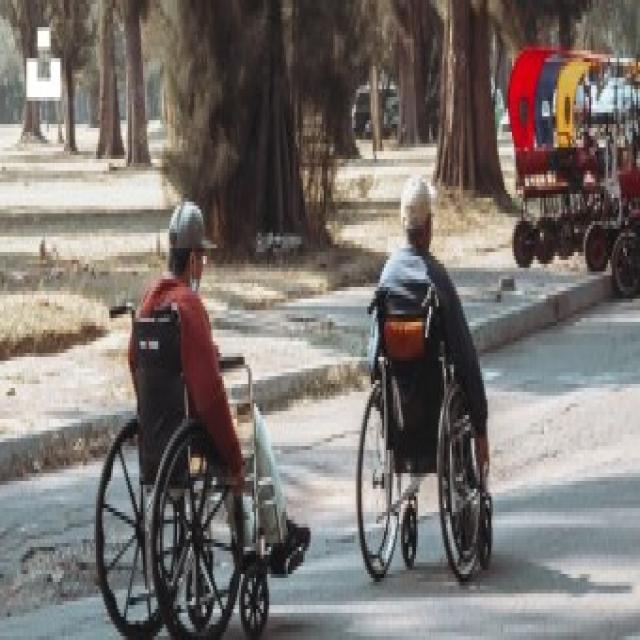wheelchair: (96, 200, 311, 636), (356, 180, 494, 582)
